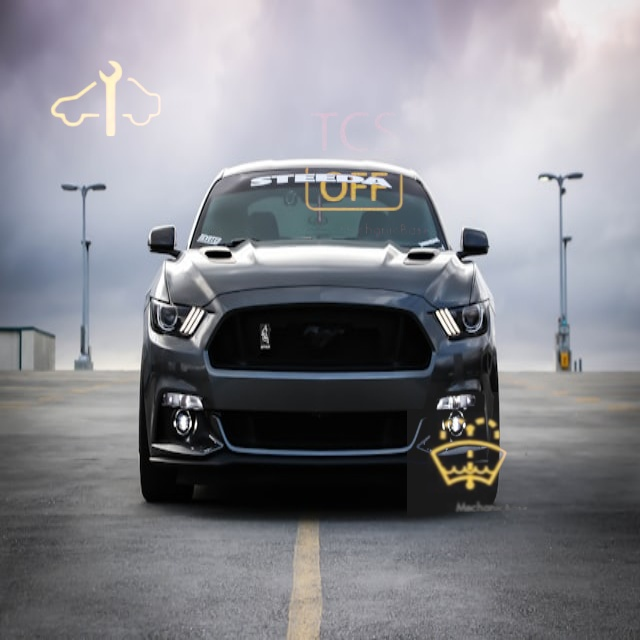symbol: (276, 83, 436, 243), (31, 26, 180, 175), (407, 392, 533, 518)
